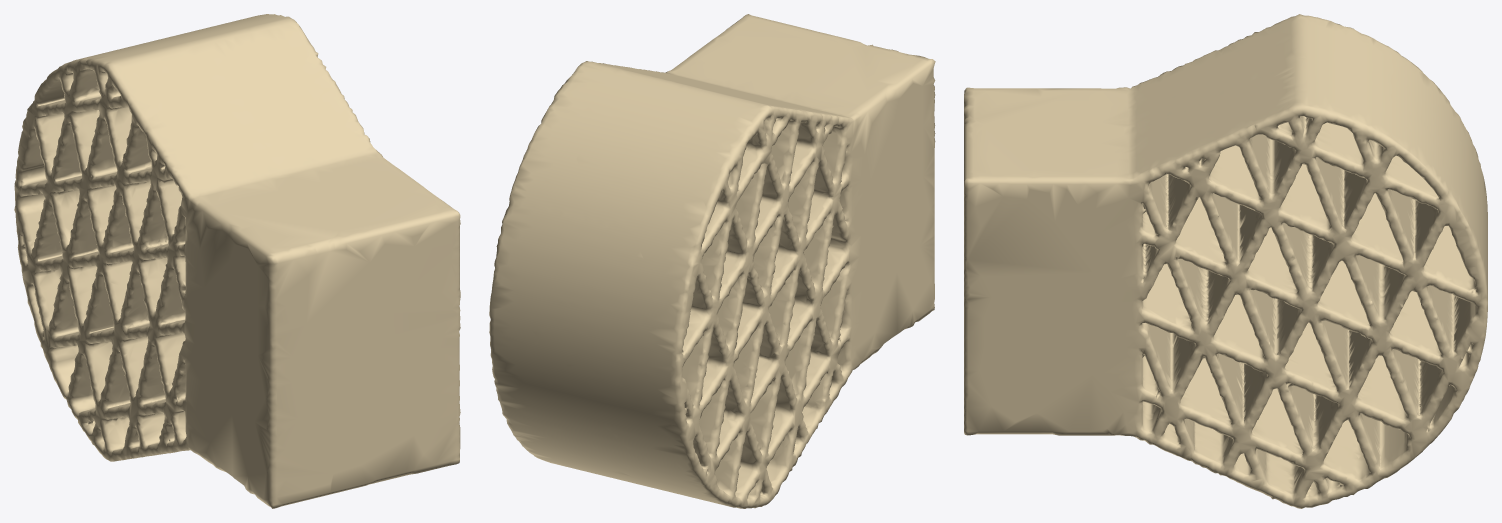
The model's file is ollie-paw-shape-085.glb.
3 renders of one model, left to right at view 1: azimuth 30°, elevation 25°; view 2: azimuth 150°, elevation 25°; view 3: azimuth 270°, elevation 25°, orthographic.
Visible parts, largest first — view 1: world; view 2: world; view 3: world.
Part boxes in pixels (left/top/right/bottom): world: left=14, top=14, right=460, bottom=508; world: left=489, top=14, right=935, bottom=508; world: left=964, top=14, right=1487, bottom=508.
Size of the model in its own units: 20 by 39.91 by 47.
